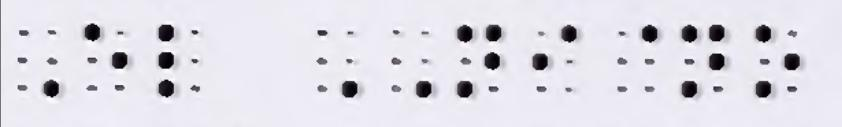capital_sign: (390, 27, 433, 99), (317, 27, 359, 99), (19, 28, 60, 98)
dot_4: (614, 25, 659, 94)
letter_E: (83, 23, 129, 94)
letter_N: (457, 26, 506, 100)
letter_i: (530, 23, 578, 96)
letter_l: (157, 22, 201, 100)
letter_n: (680, 24, 729, 99)
letter_o: (754, 24, 803, 99)
